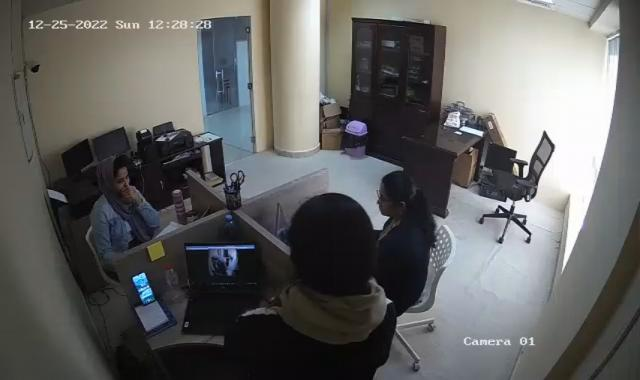no_hairnet: (288, 196, 377, 306), (376, 170, 426, 216), (93, 154, 131, 188)
